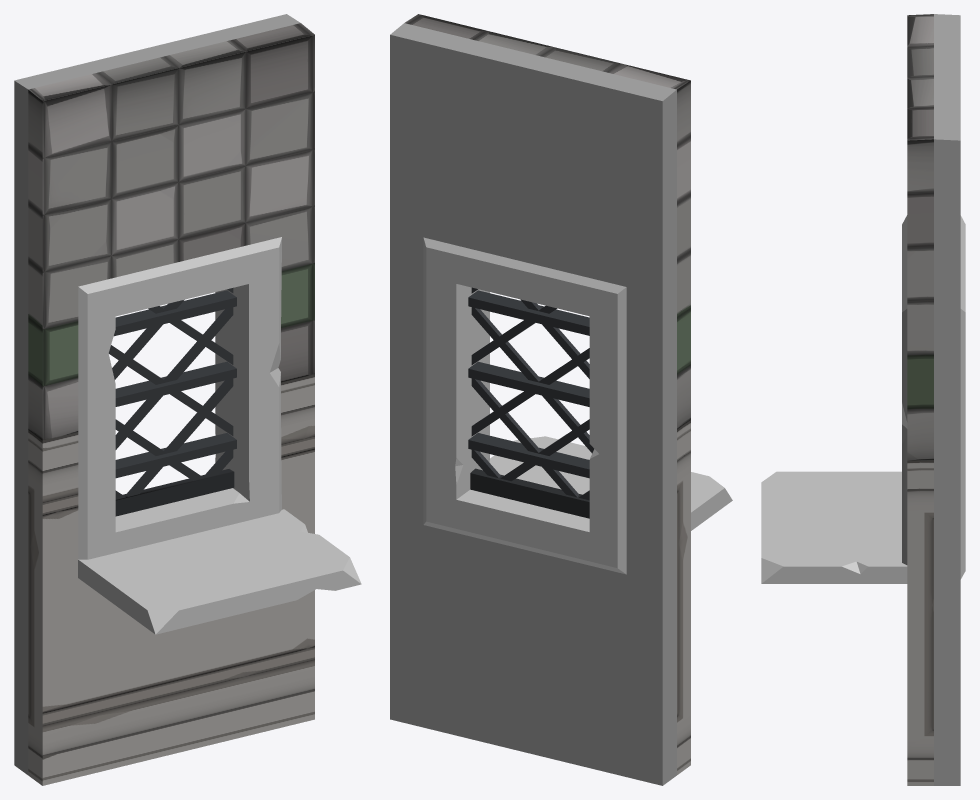
Rendered from SM_Bld_Wall_Serving_03.fbx.
3 renders of one model, left to right at view 1: azimuth 30°, elevation 25°; view 2: azimuth 150°, elevation 25°; view 3: azimuth 270°, elevation 25°, orthographic. The views are drawn at different scales.
Visible parts, largest first — view 1: SM_Bld_Wall_Serving_03; view 2: SM_Bld_Wall_Serving_03; view 3: SM_Bld_Wall_Serving_03.
Part boxes in pixels (<box>): SM_Bld_Wall_Serving_03: <box>14,14,361,785</box>; SM_Bld_Wall_Serving_03: <box>390,14,732,785</box>; SM_Bld_Wall_Serving_03: <box>761,14,965,785</box>.
Size of the model in its own units: 125 by 301 by 86.08.
